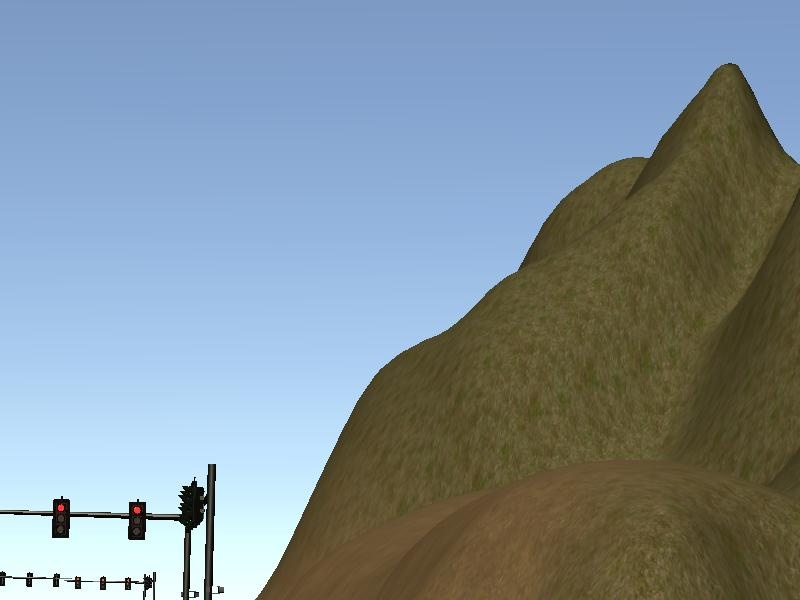red: (50, 500, 71, 539), (128, 501, 147, 542)
